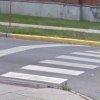Crosswalk: (10, 44, 91, 100)
